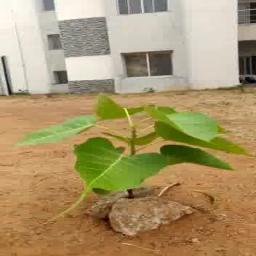LEAVS: (33, 83, 255, 197)
